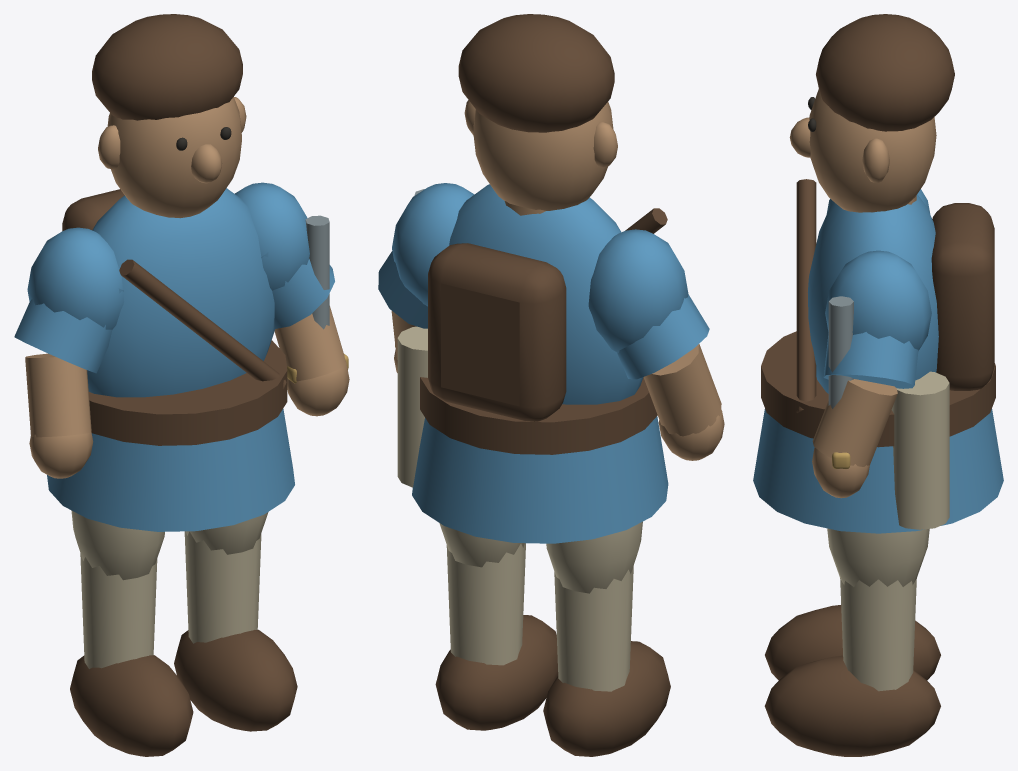
File: scout.glb
3 renders of one model, left to right at view 1: azimuth 30°, elevation 25°; view 2: azimuth 150°, elevation 25°; view 3: azimuth 270°, elevation 25°, orthographic. The views are drawn at different scales.
Parts seen in each view (by area): view 1: scout; view 2: scout; view 3: scout.
Part boxes in pixels (<box>): scout: <box>14,14,349,756</box>; scout: <box>378,14,724,756</box>; scout: <box>753,14,1003,756</box>.
Size of the model in its own units: 0.782 by 1.67 by 0.54.
